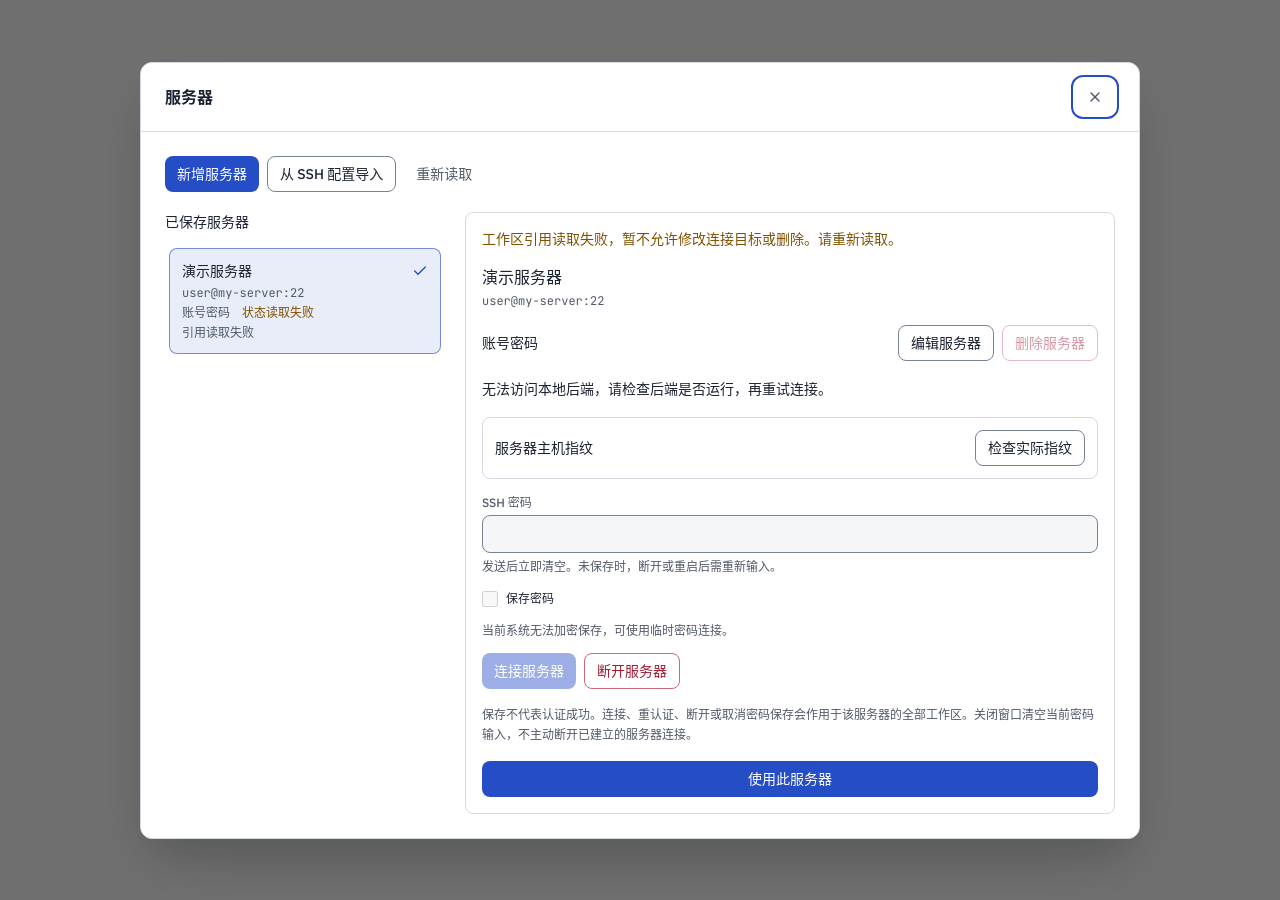
it: 列表状态或引用读取失败不伪装未连接或无引用，保留目标并阻止危险编辑
Expected: the text "状态读取失败" is shown, [242, 304, 314, 320]
Expected: the text "引用读取失败" is shown, [182, 324, 254, 340]
Click the button "编辑服务器".
click(946, 342)  # box [898, 324, 994, 360]
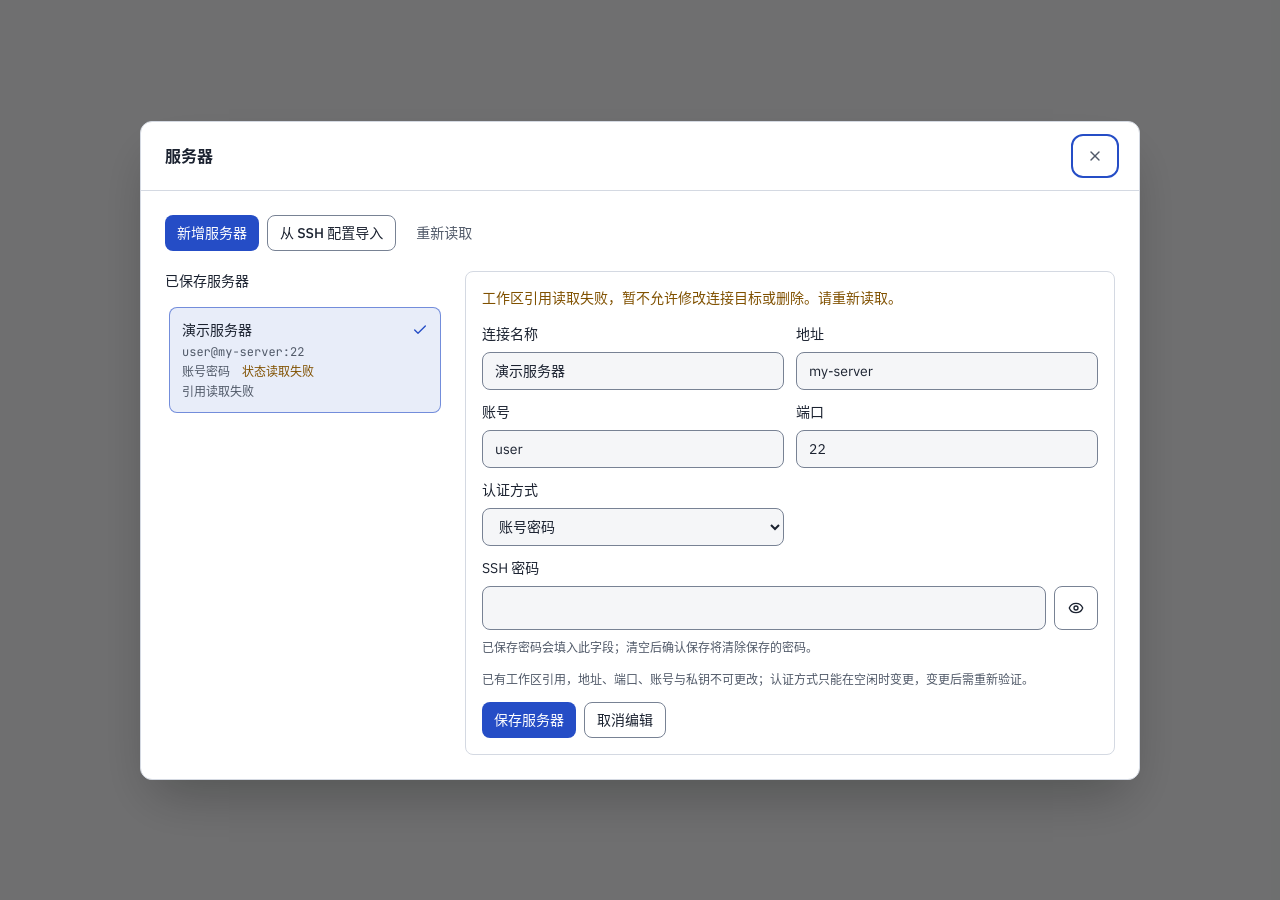
Expected: the field labelled "地址" is disabled, [796, 352, 1098, 390]
